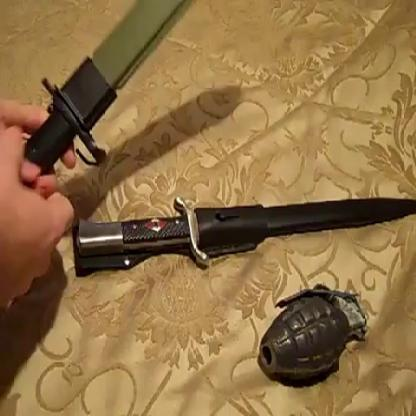Grenade: (259, 281, 368, 386)
Knife: (24, 2, 188, 167), (75, 195, 416, 267)
